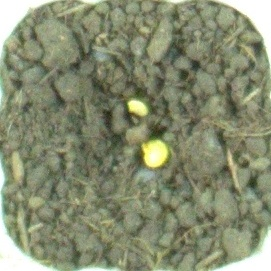chilli seed: (139, 136, 170, 168), (125, 98, 149, 118)
